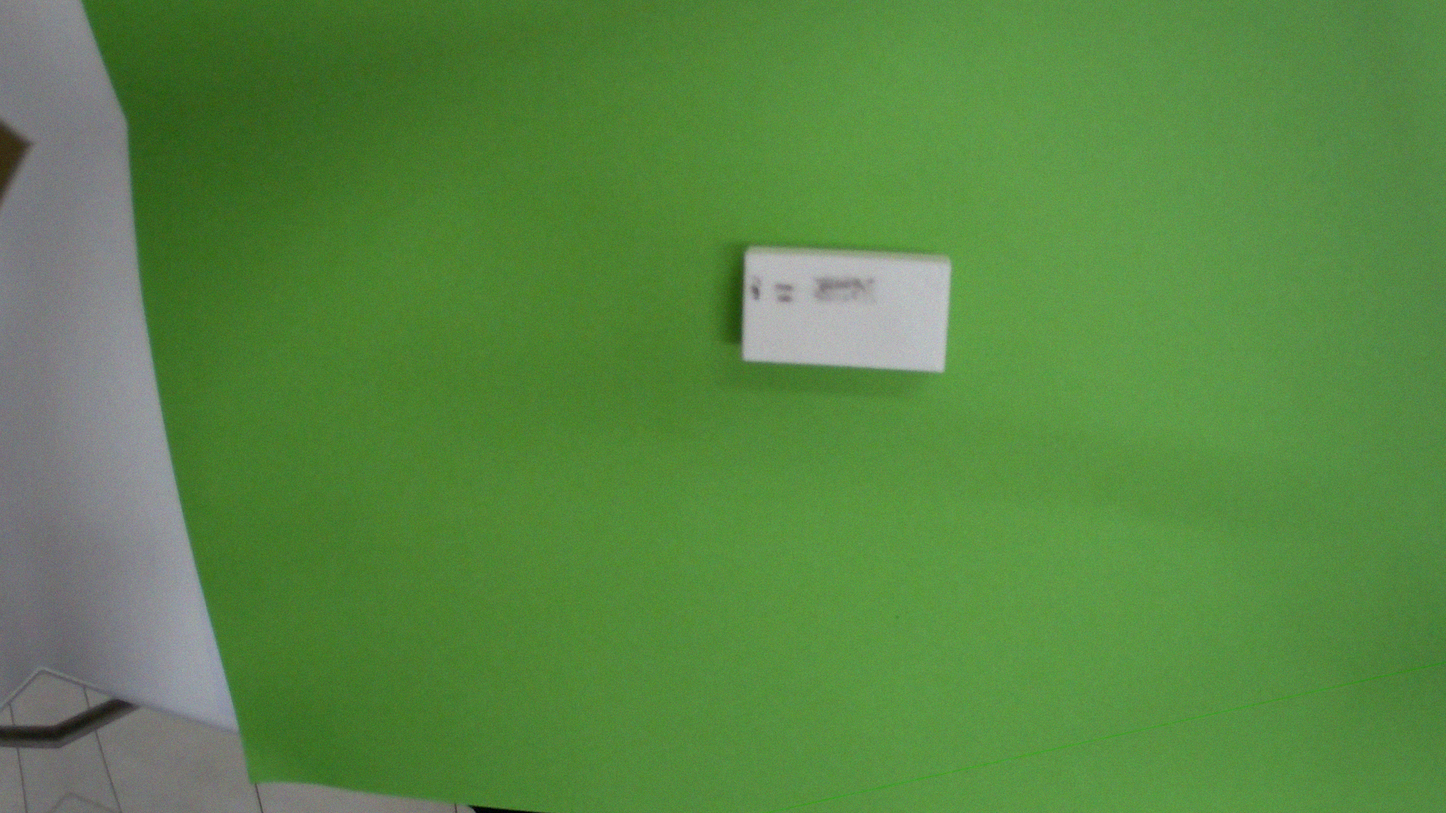gom: (706, 200, 975, 416)
